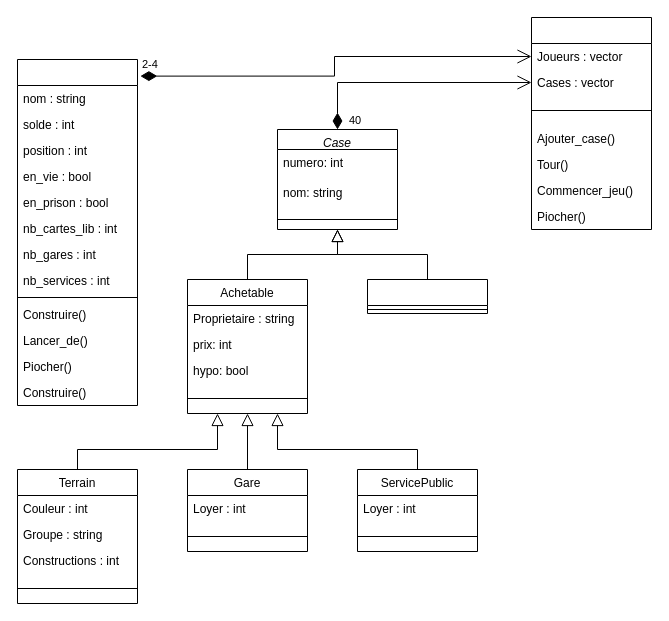
The diagram is 669 pixels wide and 621 high, and some of its shapes have lost their labels. Here are the shapes that lost their labels. From the top down, the box of each, then its label:
(530, 16, 652, 230): Plateau
(16, 58, 138, 406): Joueur
(366, 278, 488, 314): Non achetable
